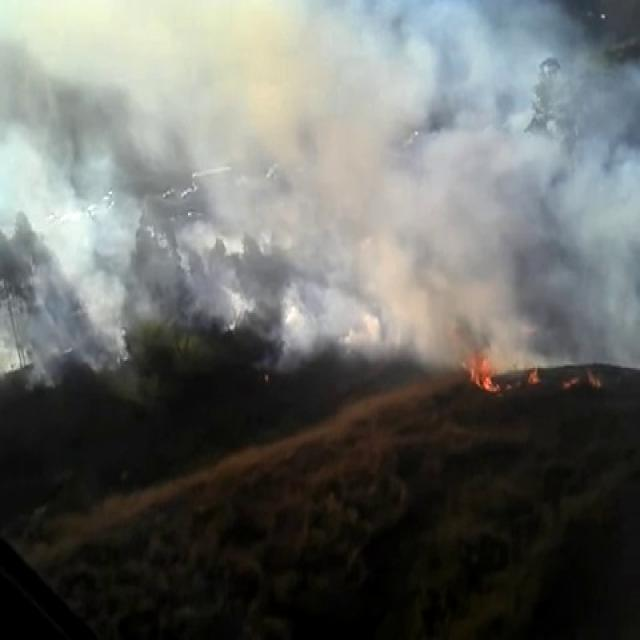Fire: (464, 356, 511, 396), (525, 366, 543, 384)
Smoke: (7, 21, 638, 407), (4, 126, 154, 370), (550, 126, 640, 366), (357, 220, 465, 375), (75, 265, 135, 367), (454, 0, 497, 112), (277, 284, 315, 386), (210, 278, 260, 342), (174, 236, 204, 338), (337, 298, 385, 356), (520, 330, 584, 370), (136, 280, 166, 336), (79, 335, 112, 378), (23, 356, 41, 387), (45, 366, 60, 393)
